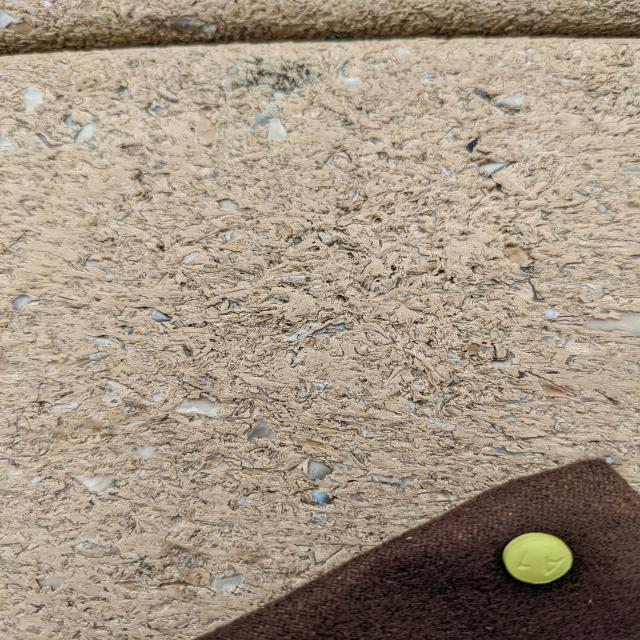non-organic waste: (502, 532, 574, 584)
